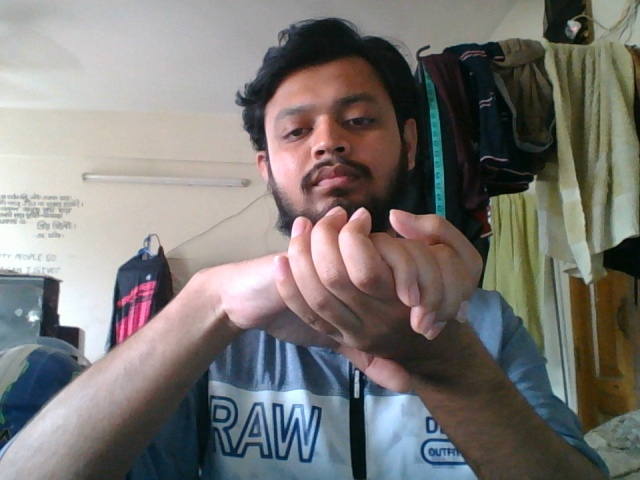bondhu: (133, 195, 579, 395)
